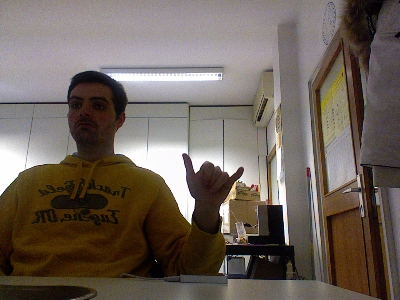六六六: (180, 152, 244, 207)
